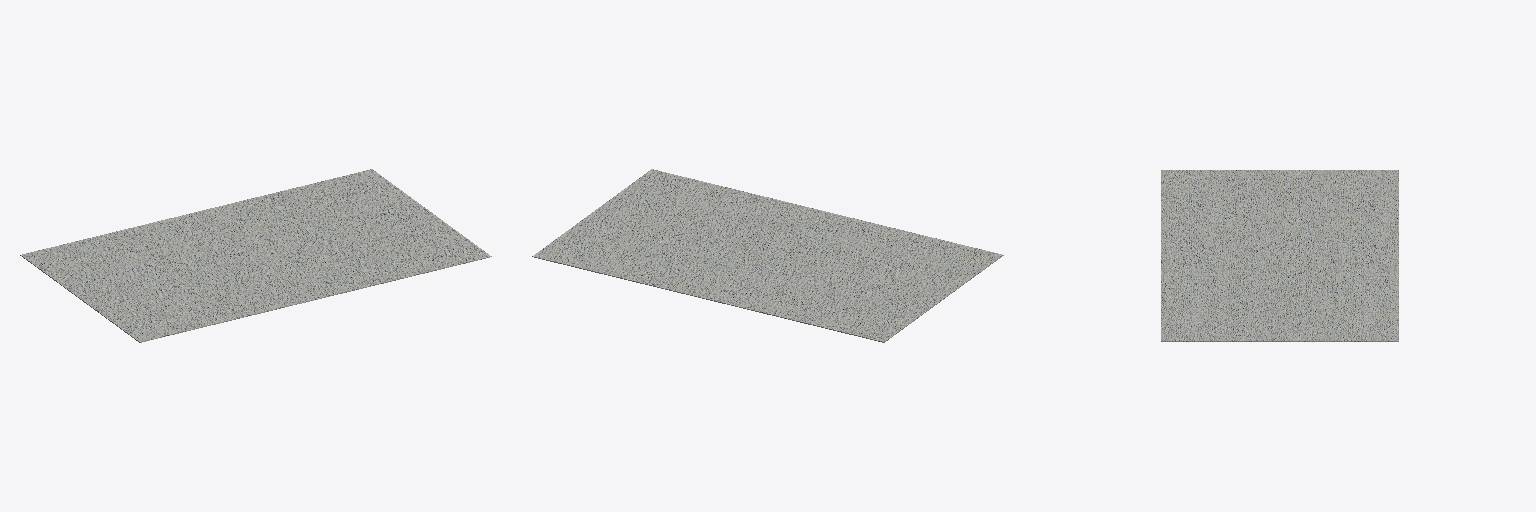
The picture shows the model from 3 angles: view 1: azimuth 30°, elevation 25°; view 2: azimuth 150°, elevation 25°; view 3: azimuth 270°, elevation 25°; orthographic projection.
Visible parts, largest first — view 1: alfombra_pCube9; view 2: alfombra_pCube9; view 3: alfombra_pCube9.
Part boxes in pixels (left/top/right/bottom): alfombra_pCube9: left=20, top=169, right=491, bottom=342; alfombra_pCube9: left=532, top=169, right=1003, bottom=342; alfombra_pCube9: left=1161, top=170, right=1398, bottom=341.
Size of the model in its own units: 5.97 by 0.0132 by 3.51.
Materials: 1 (1 with a texture image).